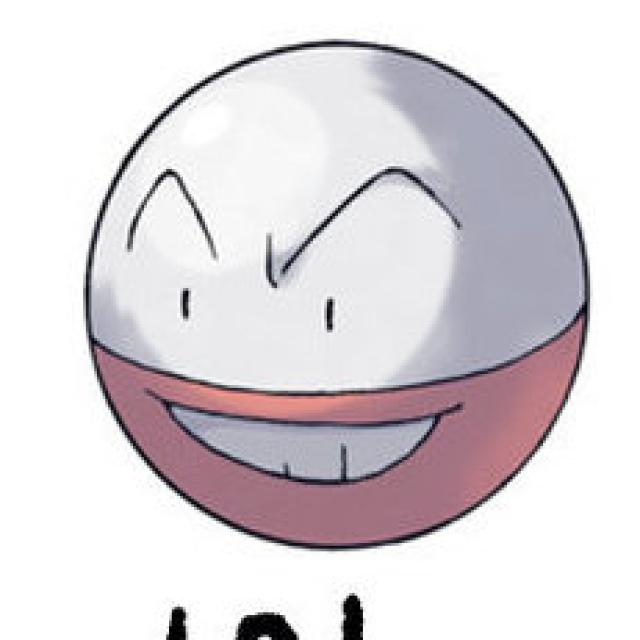Electrode: (73, 37, 598, 552)
